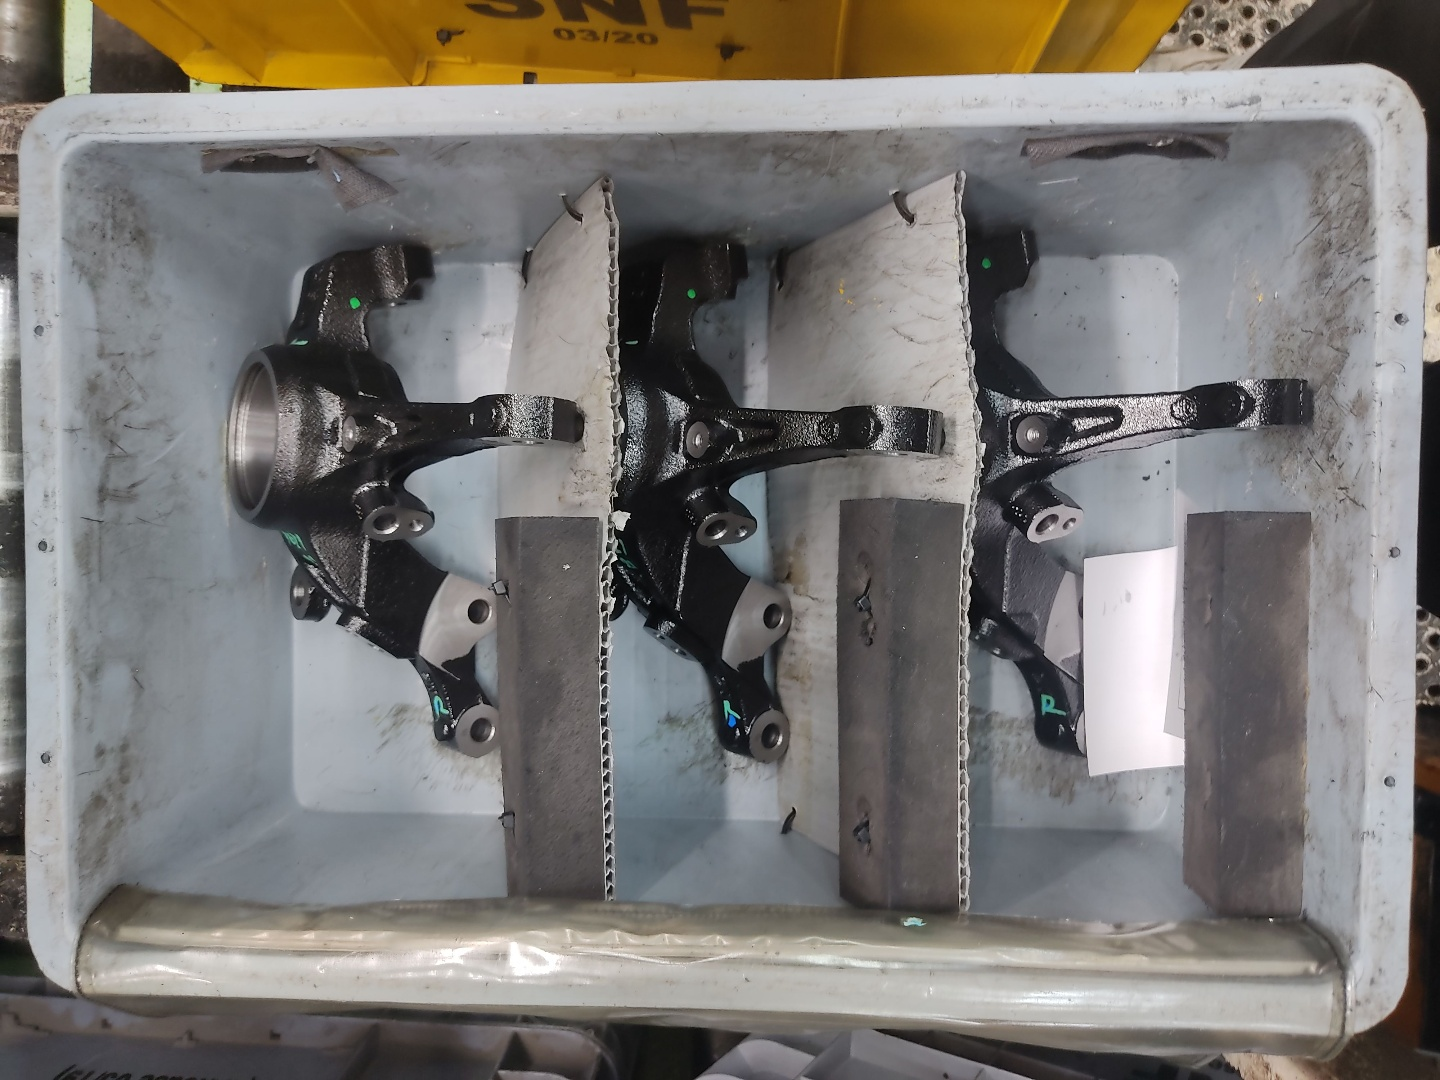abs-rh: (951, 218, 1318, 773), (219, 234, 588, 777), (596, 220, 947, 770)
